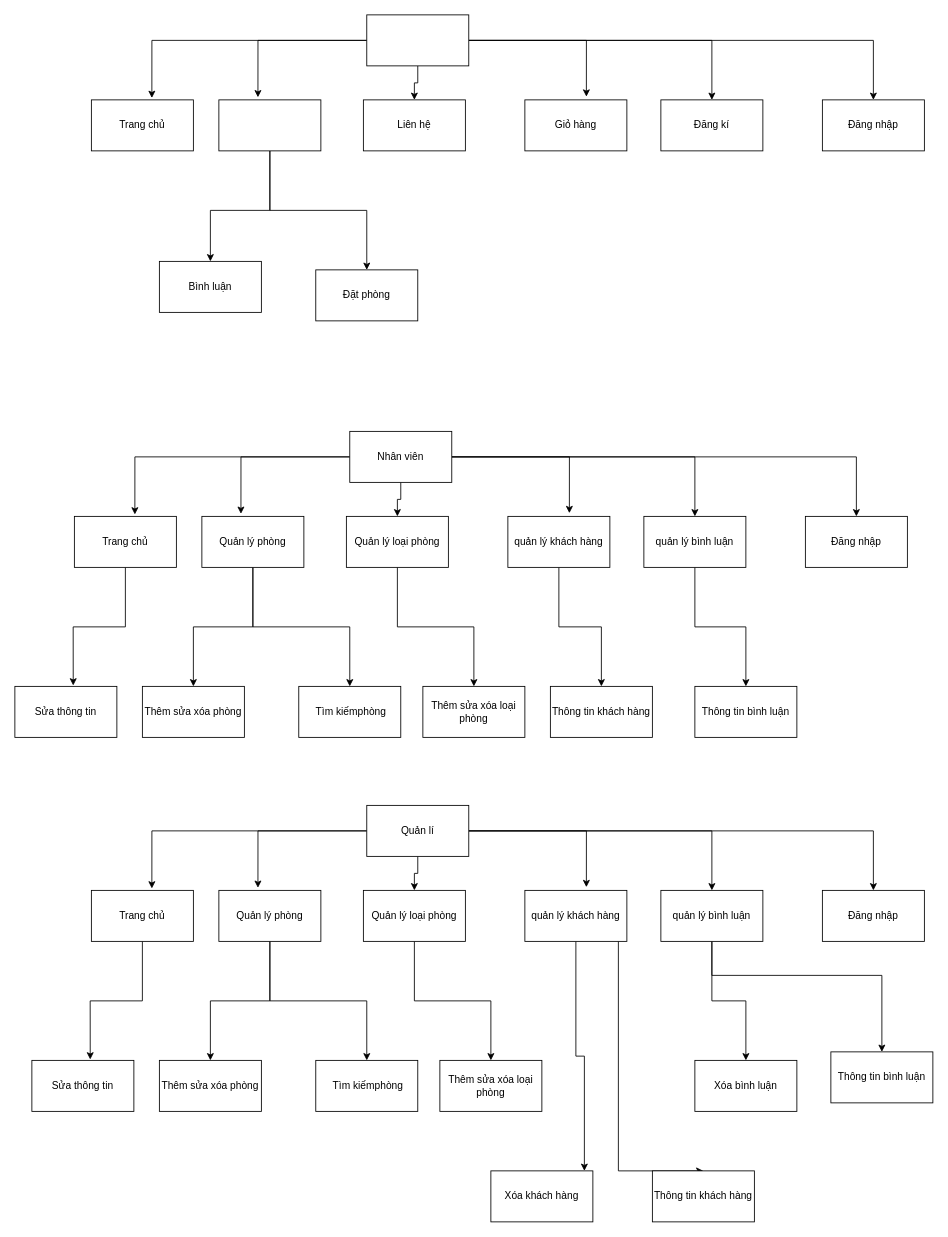
Image size: 948x1237. Some labels were removed from this diagram. The centre of each missing label's shape, as x and y in pixels:
"Phòng" belongs at pixel 269 125.
"user" belongs at pixel 417 40.
